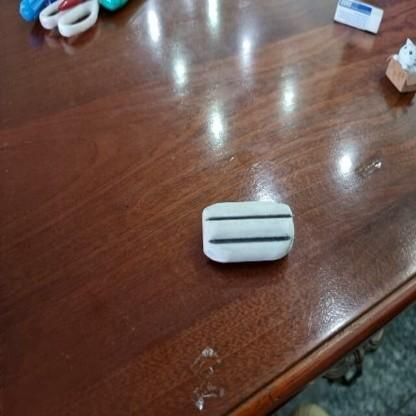not trash: (173, 178, 305, 276), (8, 0, 133, 41), (372, 40, 416, 102), (317, 0, 390, 34)
